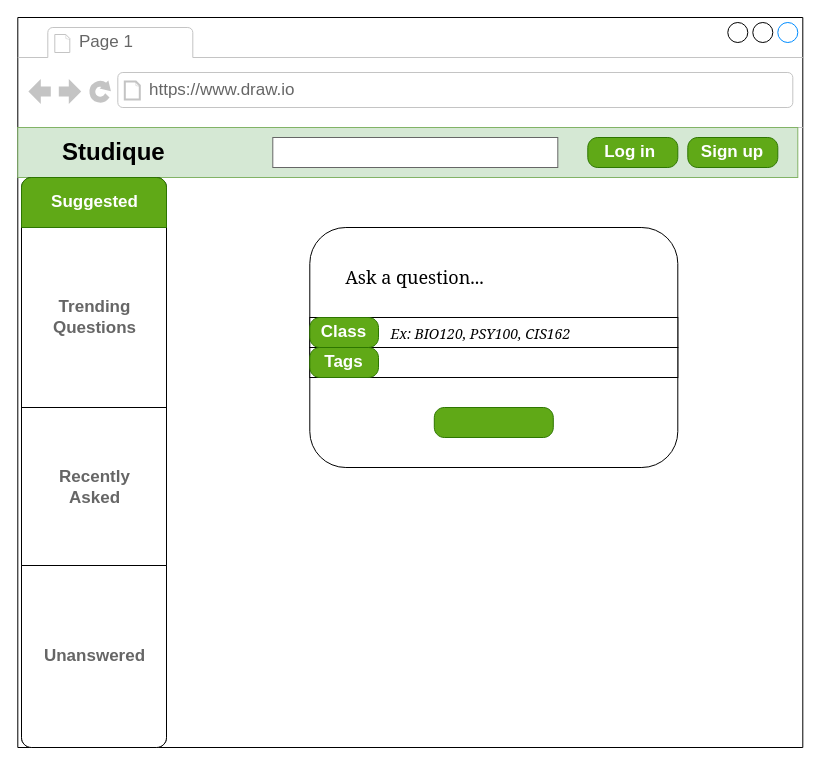
Image size: 820x765. Some labels were removed from this diagram. The shapes that lost their labels are listed below. From the top down, each one's box as (x1, y1, x2, y2) in pixels, then its label:
(272, 136, 558, 168): Type in a question or keyword...
(309, 346, 678, 378): Ex: Football, class, clubs
(433, 406, 553, 438): Ask Away!
